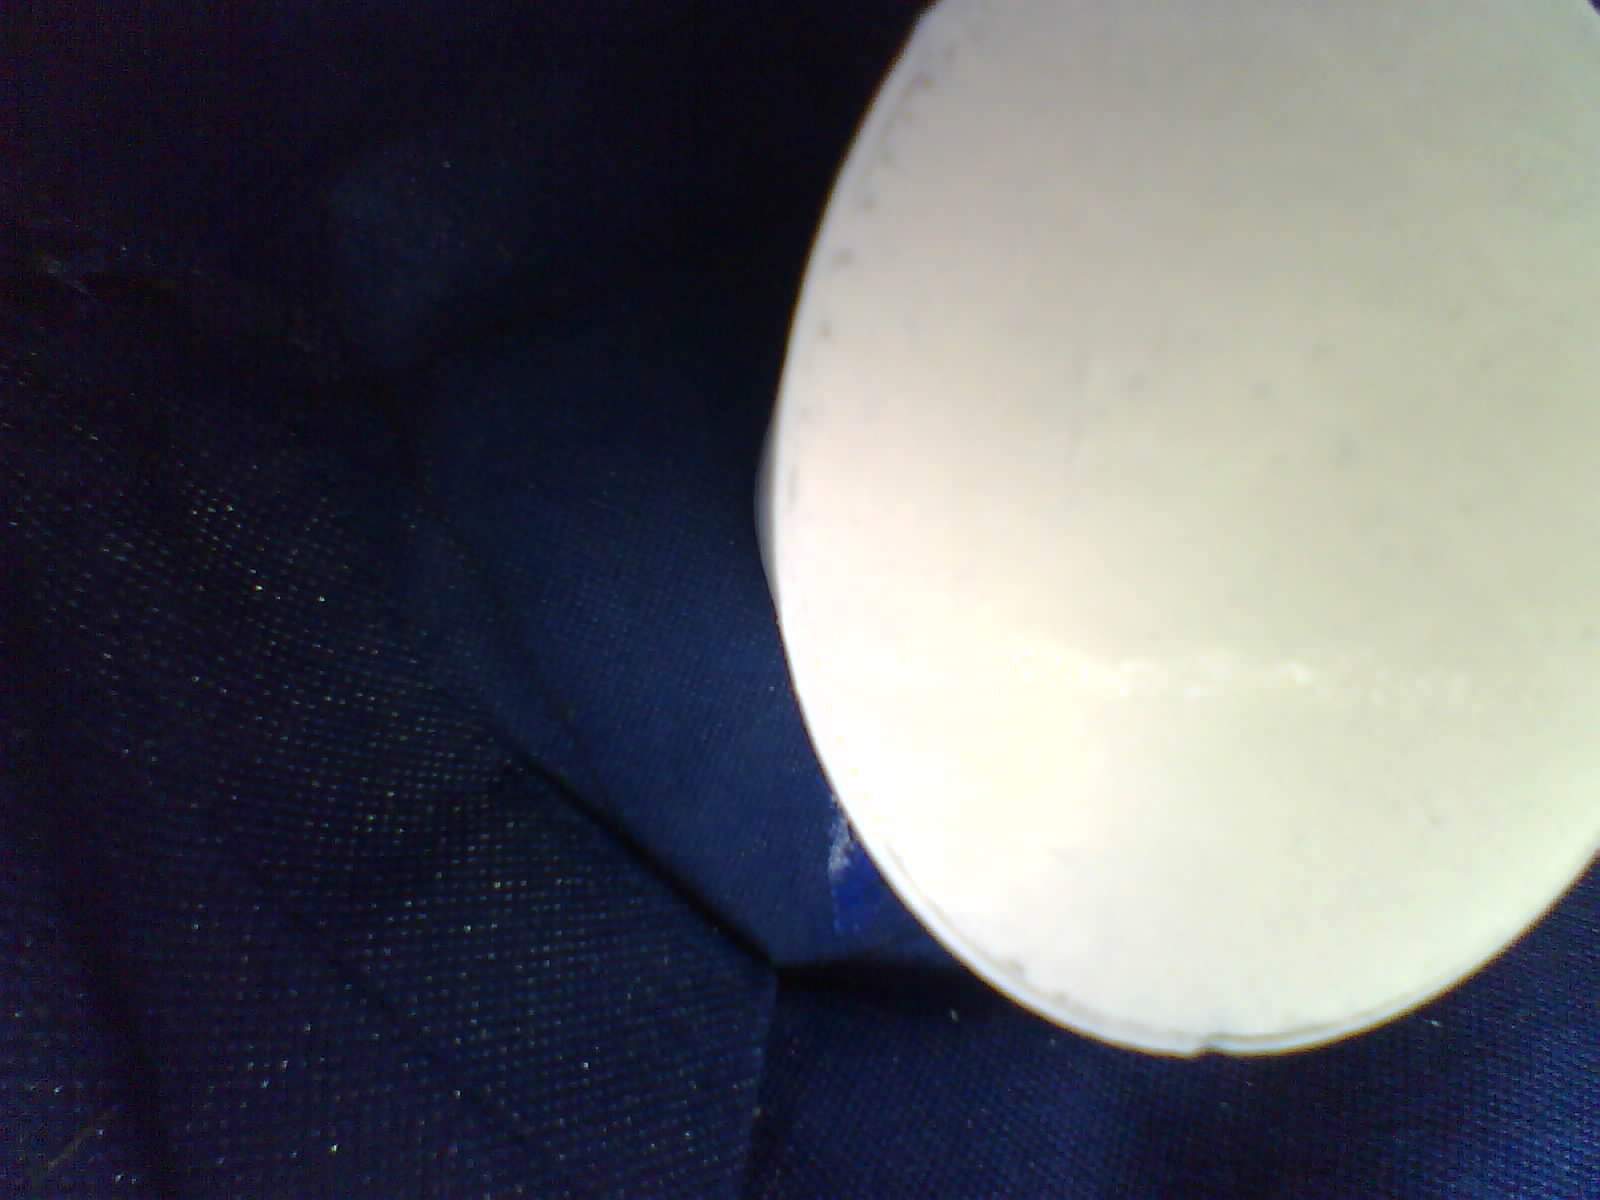cylinder-hard: (737, 0, 1600, 1075)
